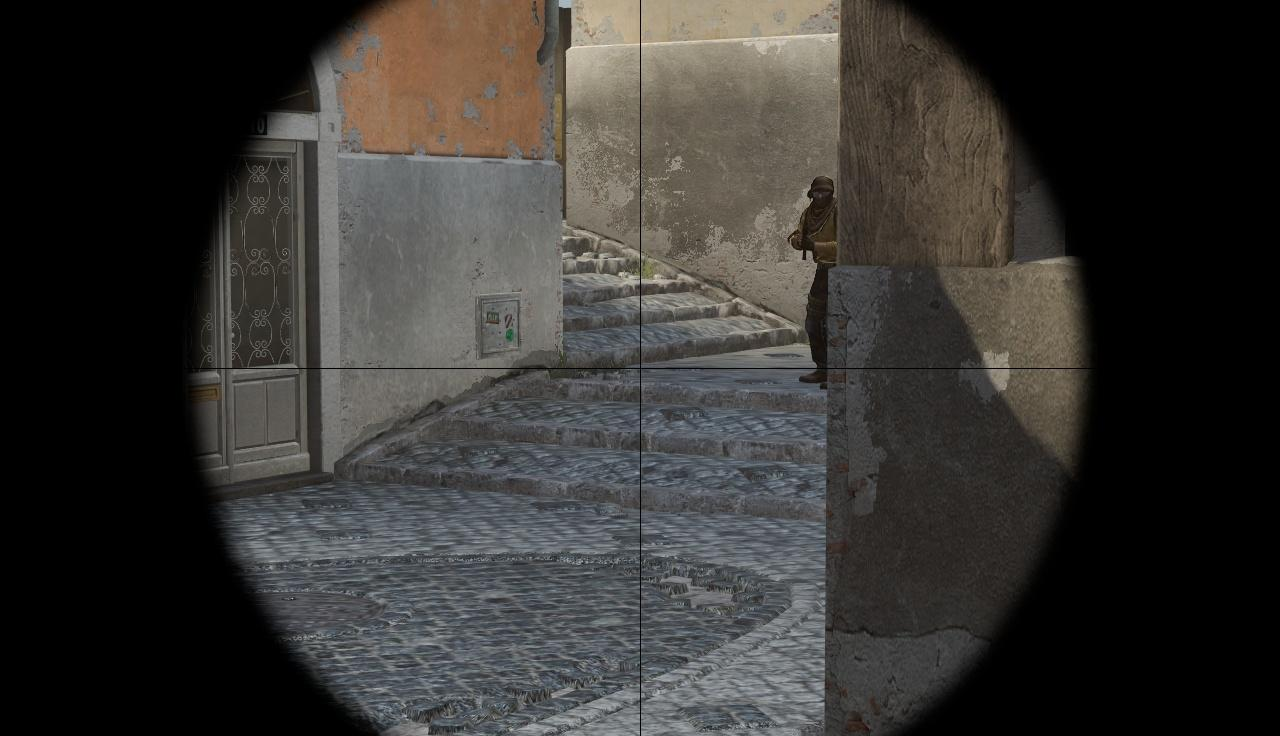tt: (801, 176, 837, 389)
tthead: (812, 179, 837, 209)
